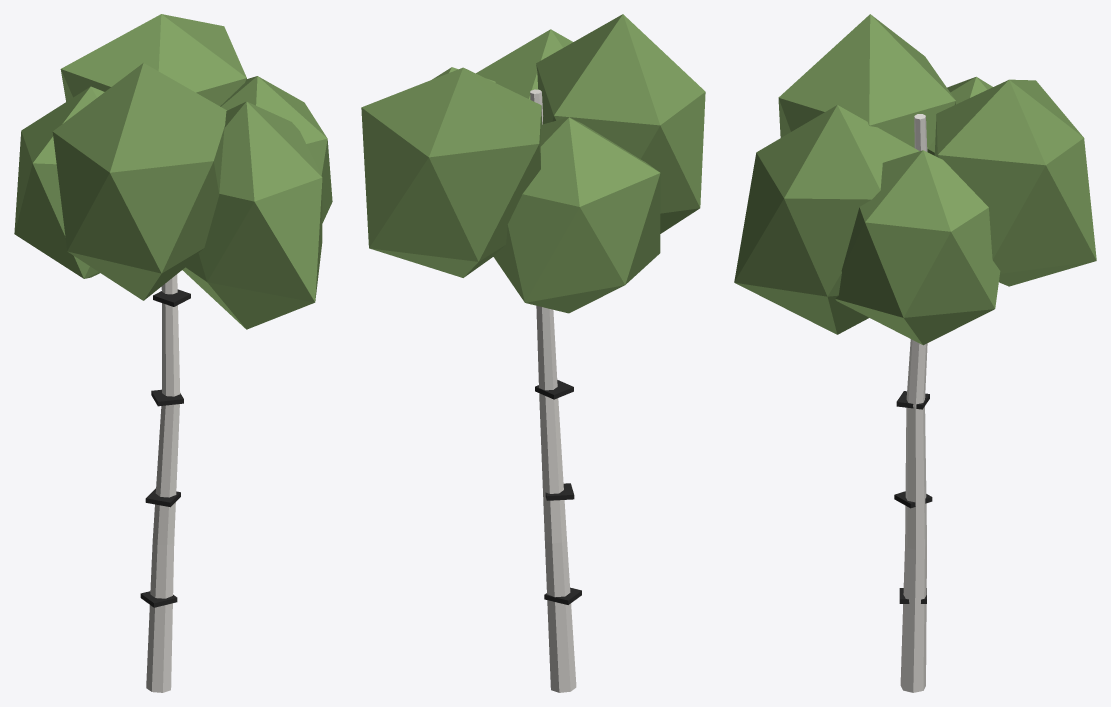
Rendered from tree_birch.glb.
3 views of the same model, side by side, from view 1: azimuth 30°, elevation 25°; view 2: azimuth 150°, elevation 25°; view 3: azimuth 270°, elevation 25° (orthographic). The views are drawn at different scales.
Parts seen in each view (by area): view 1: Tree_Birch; view 2: Tree_Birch; view 3: Tree_Birch.
Part boxes in pixels (x1,y1,x2,y2): Tree_Birch: [14, 14, 332, 692]; Tree_Birch: [361, 14, 705, 692]; Tree_Birch: [734, 14, 1096, 692].
Bounding box in the file's own units: 3.26 × 7.21 × 3.62.
